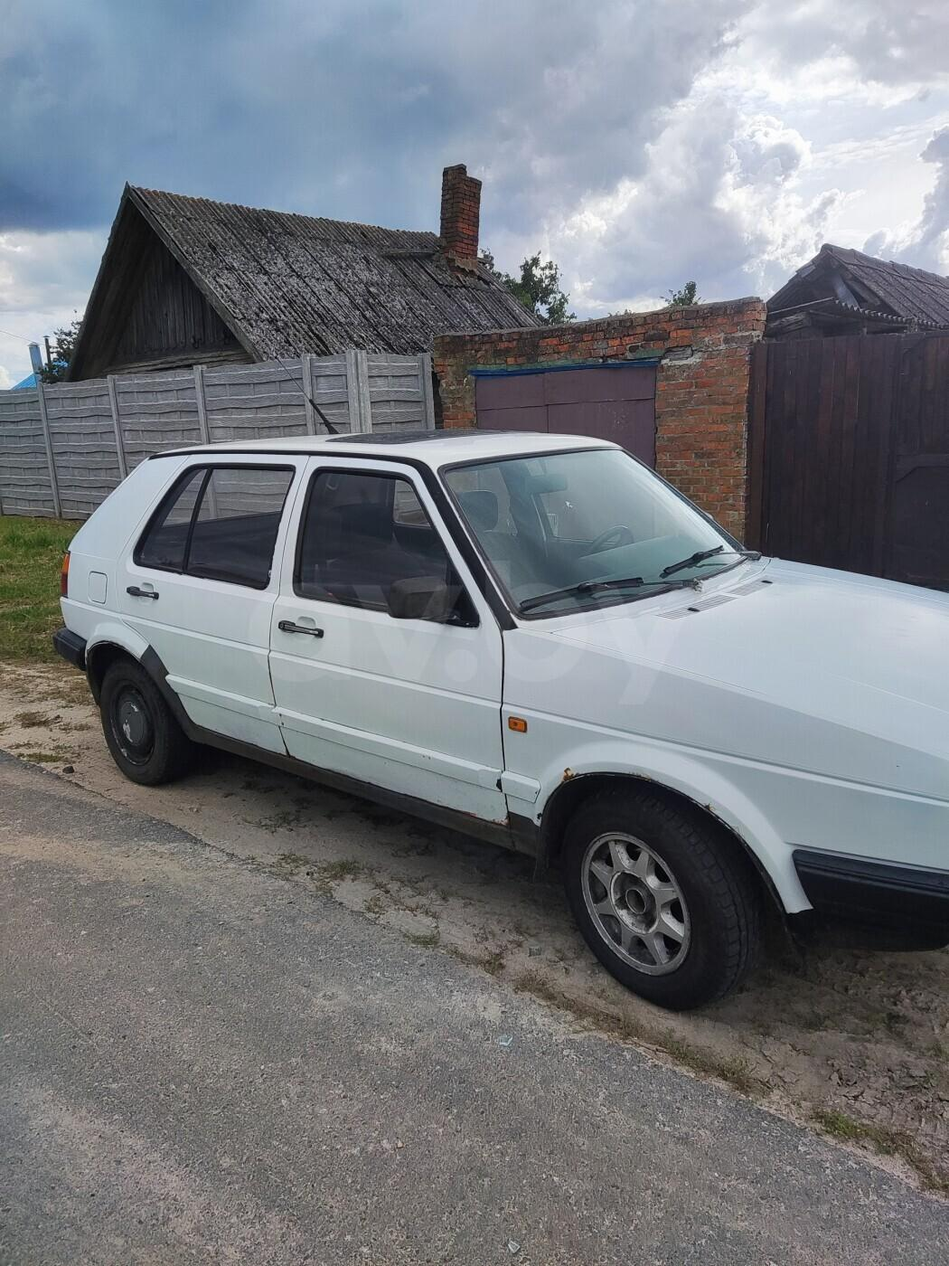Golf_1983-1992: (66, 428, 949, 1031)
